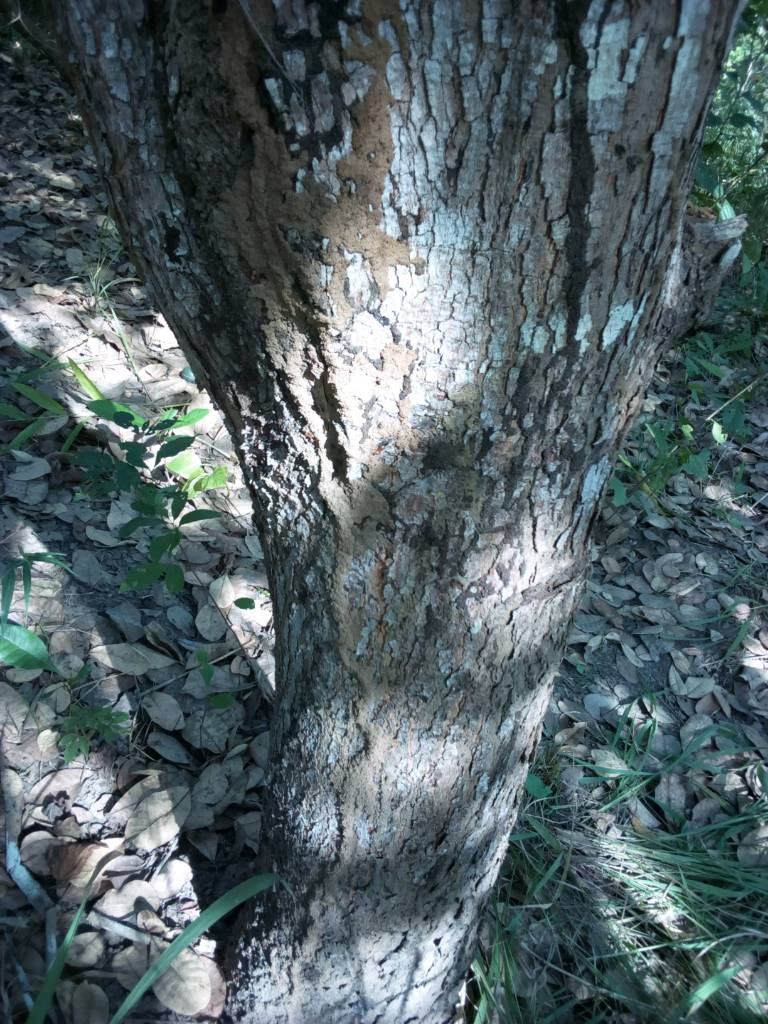Termites: (197, 10, 488, 822)
